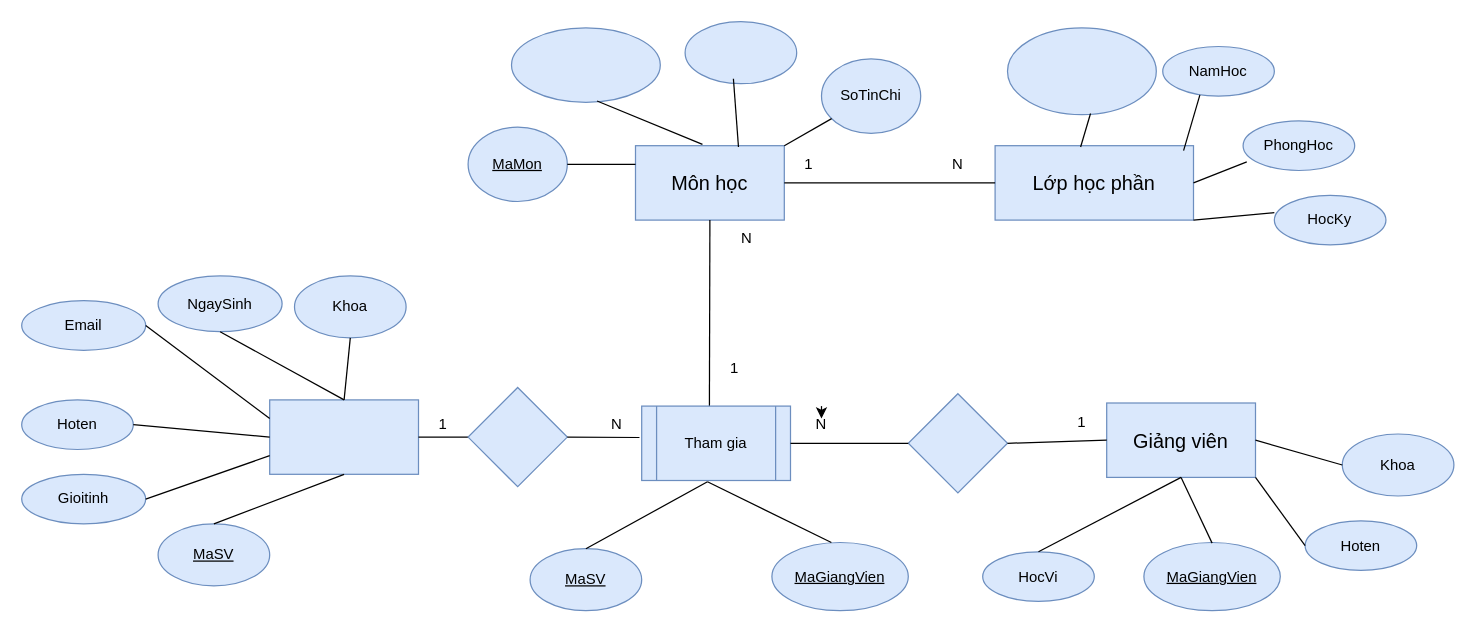
The diagram is 1476 pixels wide and 632 high, and some of its shapes have lost their labels. The shapes that lost their labels are listed below. From the top down, each one's centre as x and y in pixels, then its label:
At (x=585, y=64): "KhoaPhuTrach".
At (x=740, y=52): "TenMon".
At (x=1081, y=71): "MaLopHocPhan".
At (x=343, y=436): "Sinh viên".
At (x=517, y=436): "Học".
At (x=957, y=442): "Giảng dạy".
